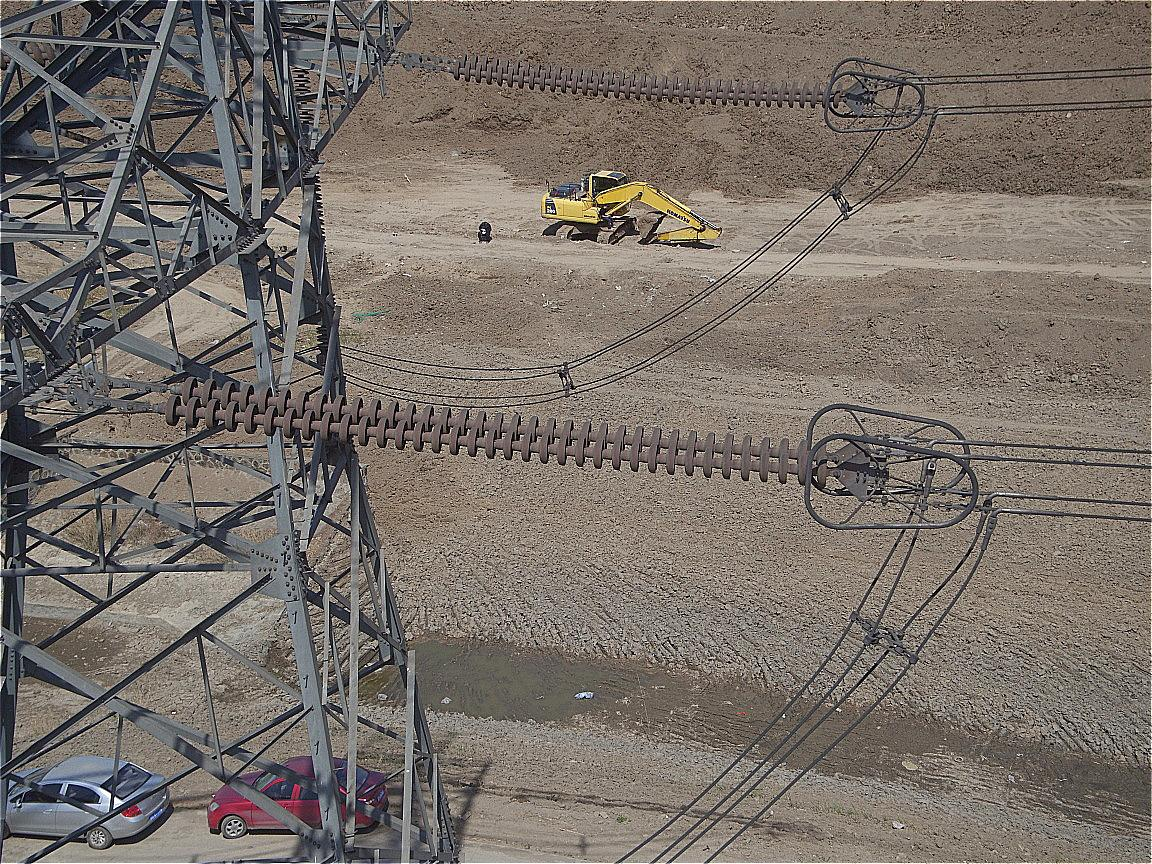insultor1: (162, 376, 840, 505), (444, 42, 879, 108)
